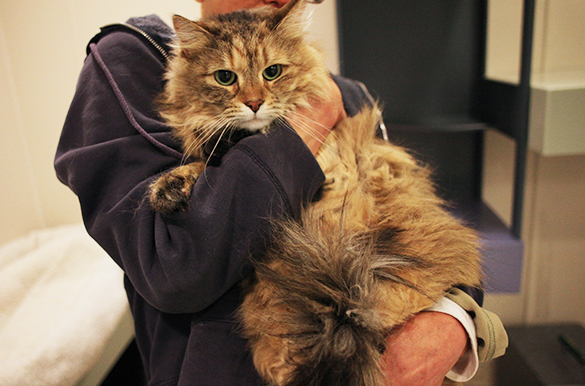cat: (146, 2, 484, 380)
human: (50, 1, 496, 382)
